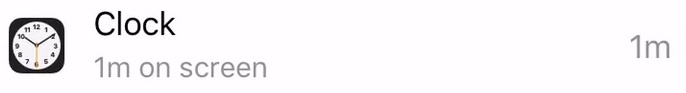name: (83, 3, 185, 43)
time: (90, 51, 138, 90)
